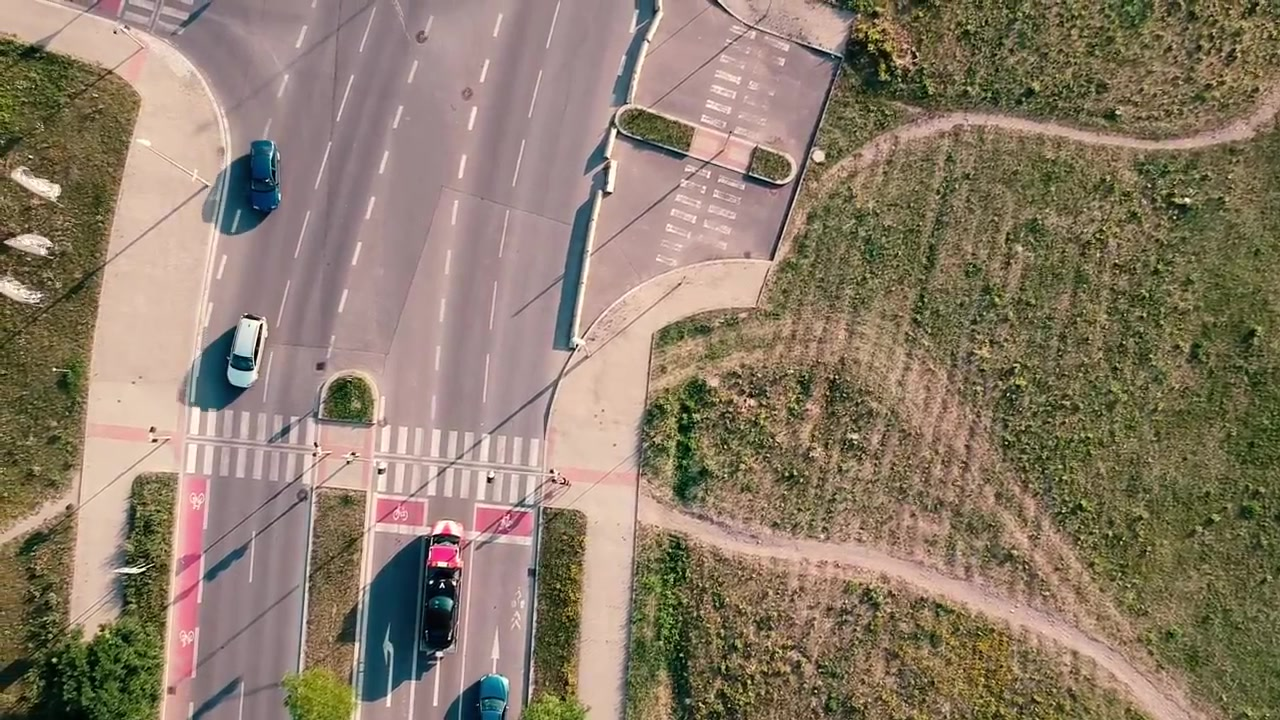car: (417, 513, 467, 660), (221, 311, 271, 389), (246, 138, 284, 214), (475, 672, 512, 720)
